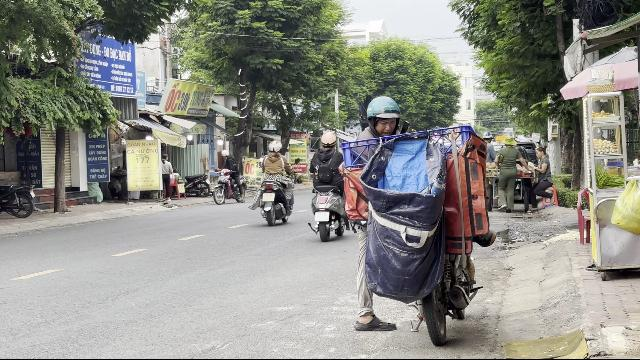helmet: (319, 131, 337, 149)
licenseplate: (315, 212, 329, 220)
motorcyclist: (305, 131, 347, 242)
